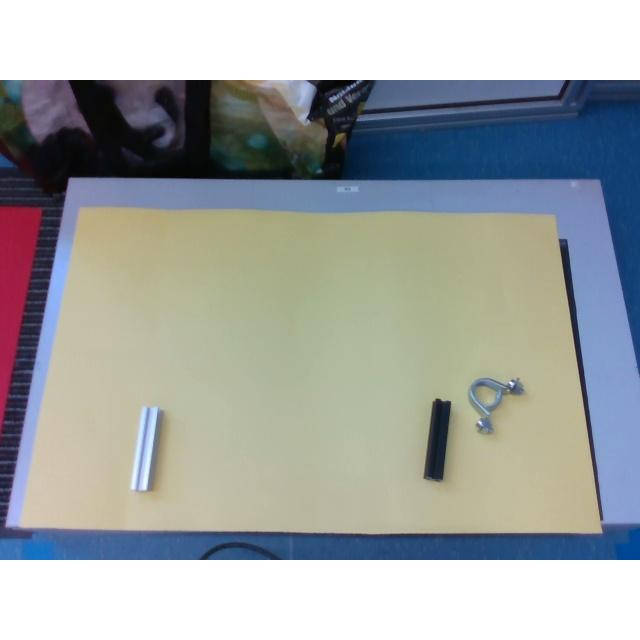F20_20_B: (422, 398, 450, 478)
F20_20_G: (130, 406, 162, 492)
Housing: (468, 376, 524, 432)
